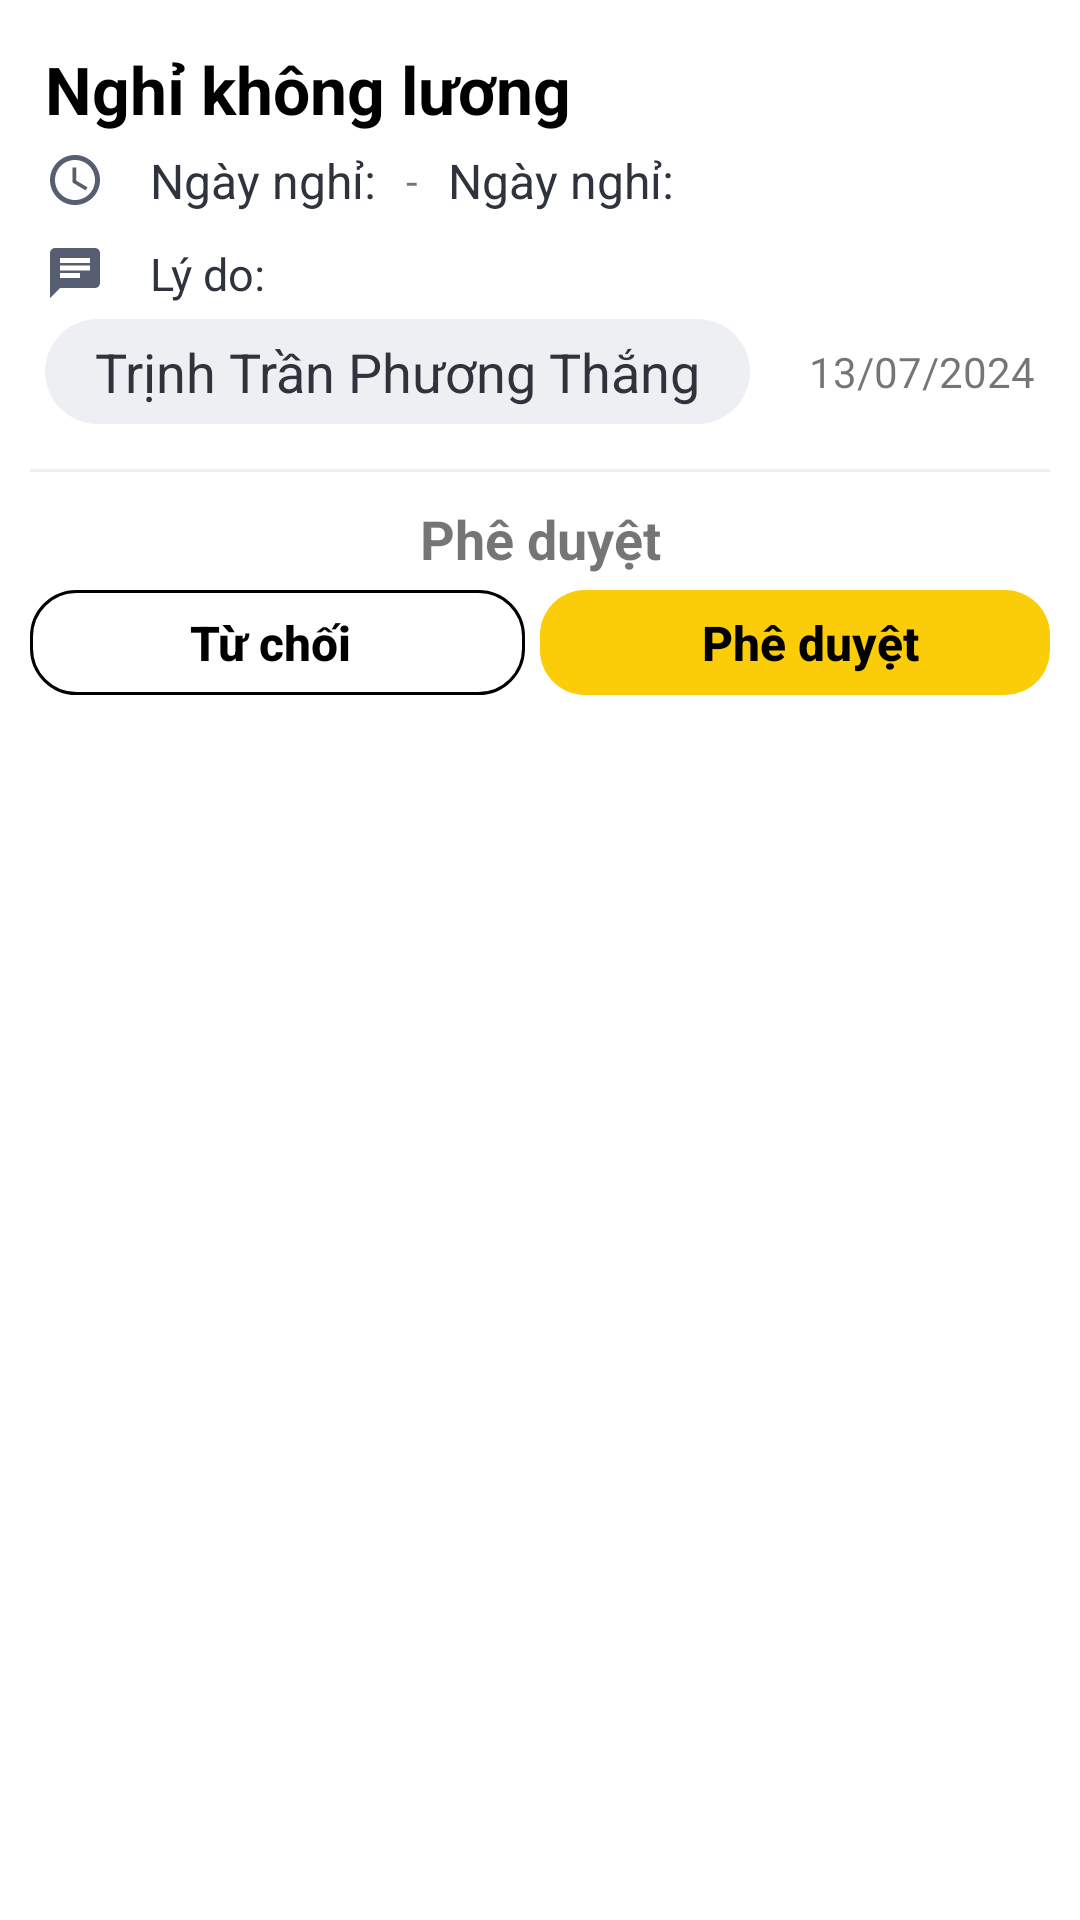

Icon bounding boxes for this 1080px x 1920px phone screenshot, format (x1, y1, x2, y2):
access time: (50, 155, 100, 205)
chat: (50, 248, 100, 298)
